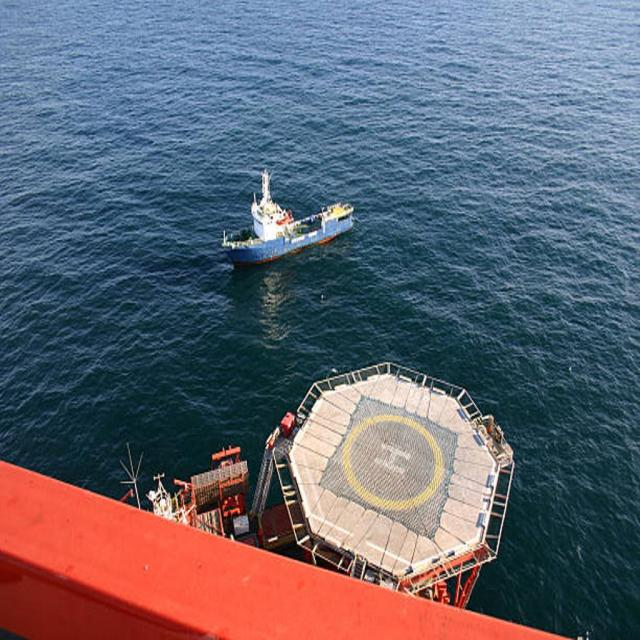helipad: (339, 414, 446, 511)
